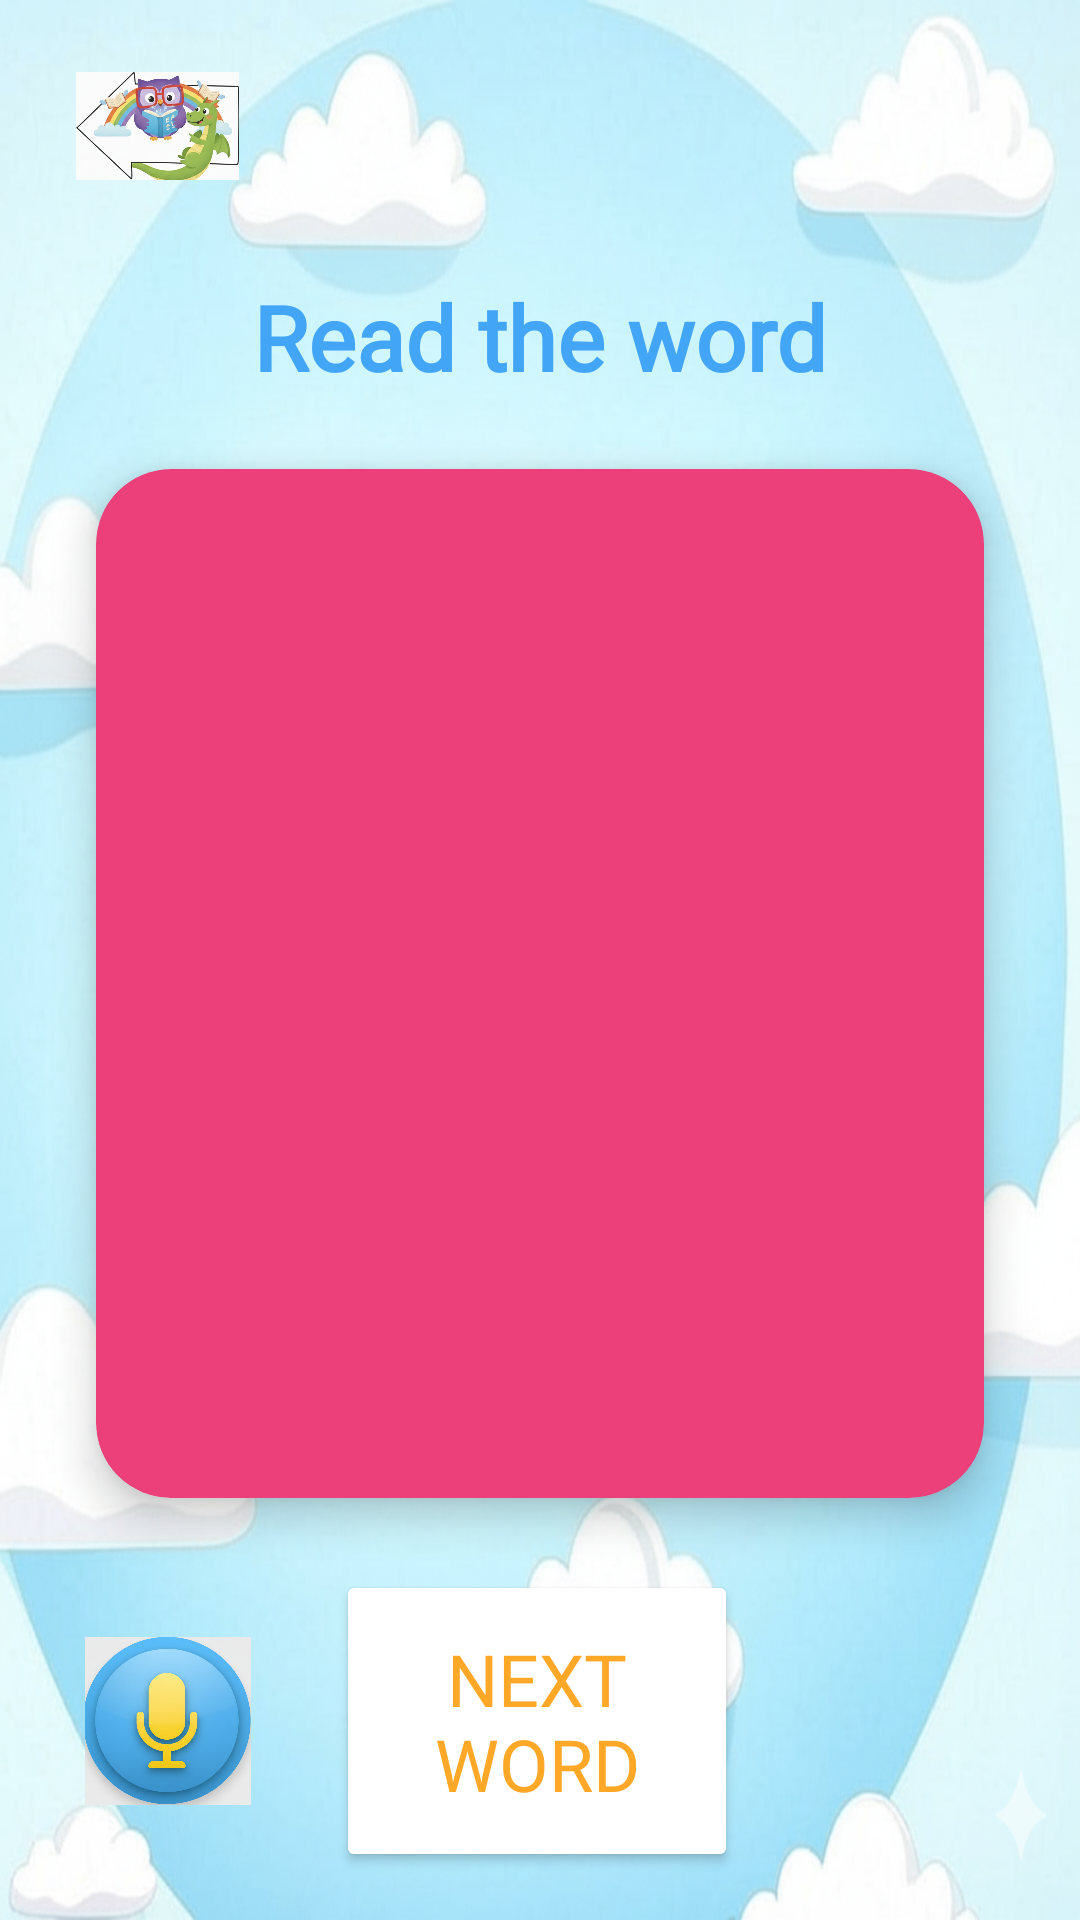

Icons on this 1080px×1920px Android screen, each with the point to tap as point (x, y):
backarrow: point (171, 138)
microphone: point (168, 1721)
